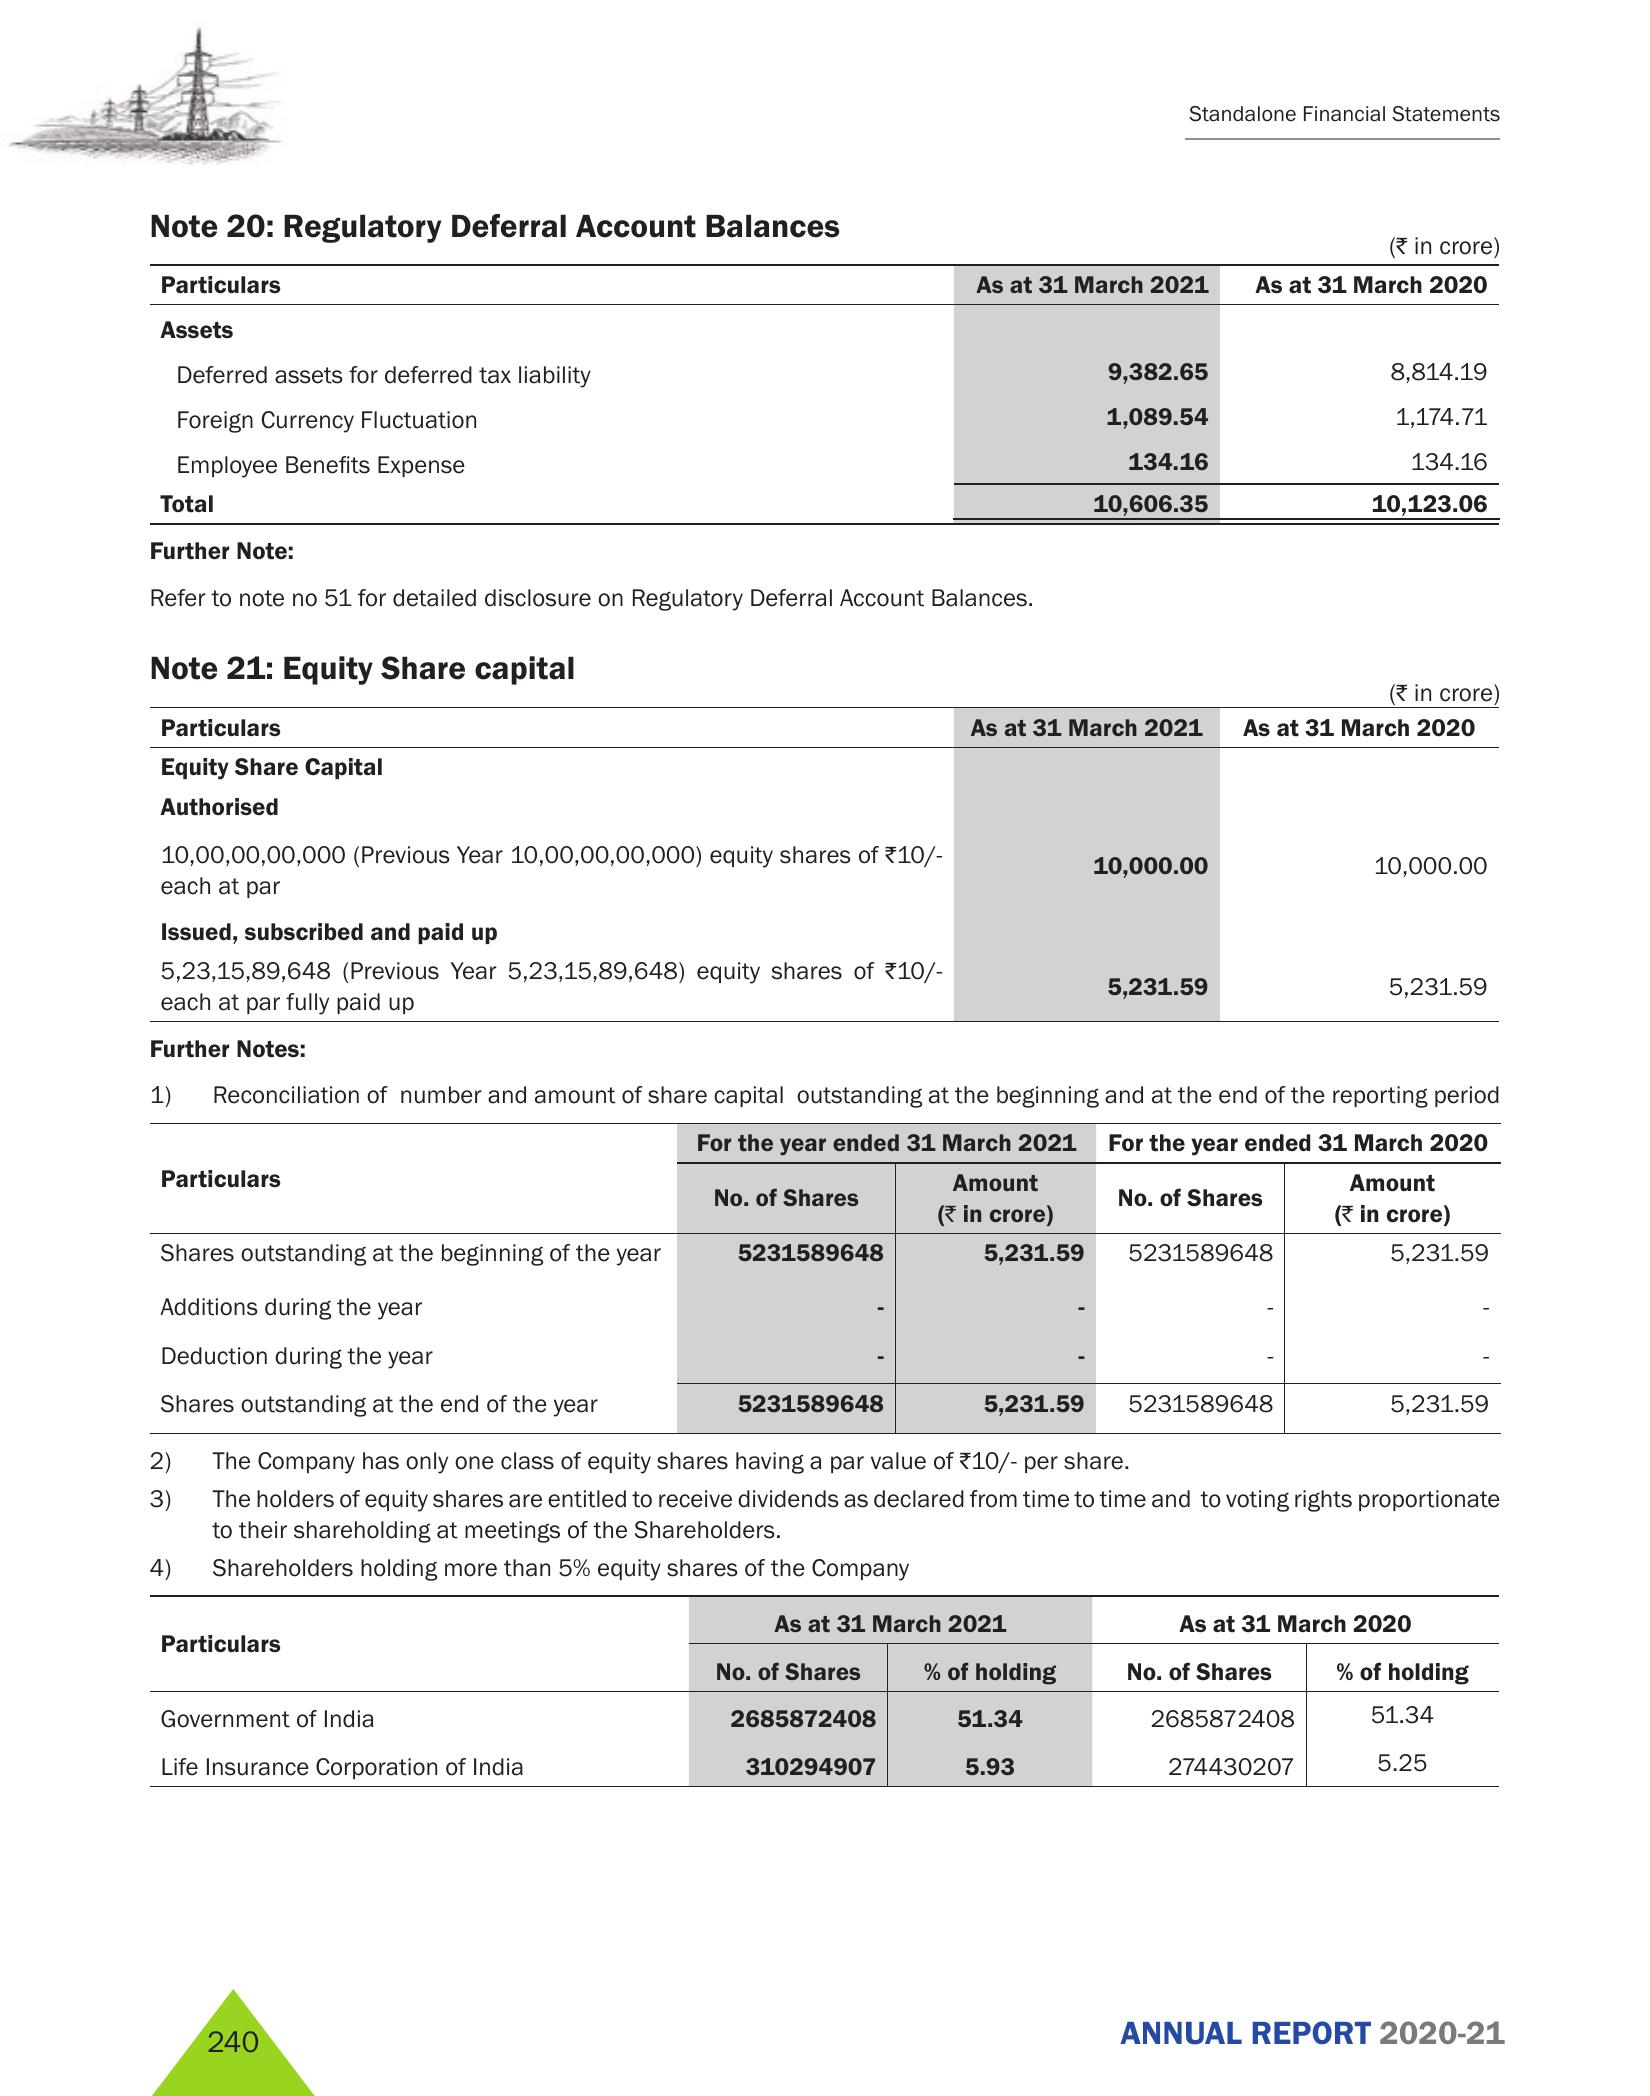Footer: (0, 1965, 1650, 2096)
Header: (0, 0, 1650, 180)
Table: (117, 703, 1528, 1021), (122, 1125, 1521, 1434), (117, 260, 1528, 531), (134, 1603, 1499, 1785)
